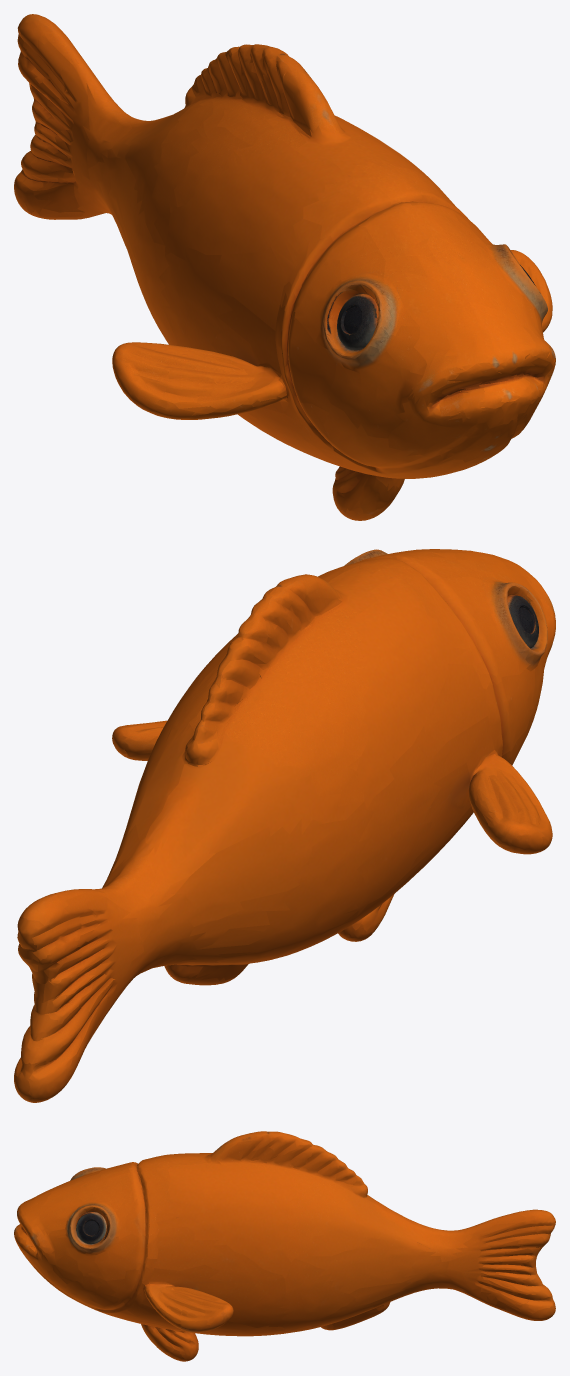
The model's file is pesce_gomma.glb.
The picture shows the model from 3 angles, top to bottom: view 1: azimuth 30°, elevation 25°; view 2: azimuth 150°, elevation 25°; view 3: azimuth 270°, elevation 25°; orthographic projection. The views are drawn at different scales.
Bounding box in the file's own units: 0.958 × 0.885 × 1.9.
1 material, 1 textured.
